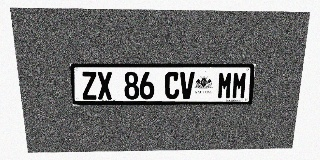6: (139, 72, 154, 99)
8: (124, 72, 139, 99)
C: (165, 72, 180, 99)
M: (231, 72, 248, 99), (217, 72, 233, 99)
V: (180, 72, 195, 99)
X: (97, 72, 113, 99)
Z: (81, 72, 98, 100)
